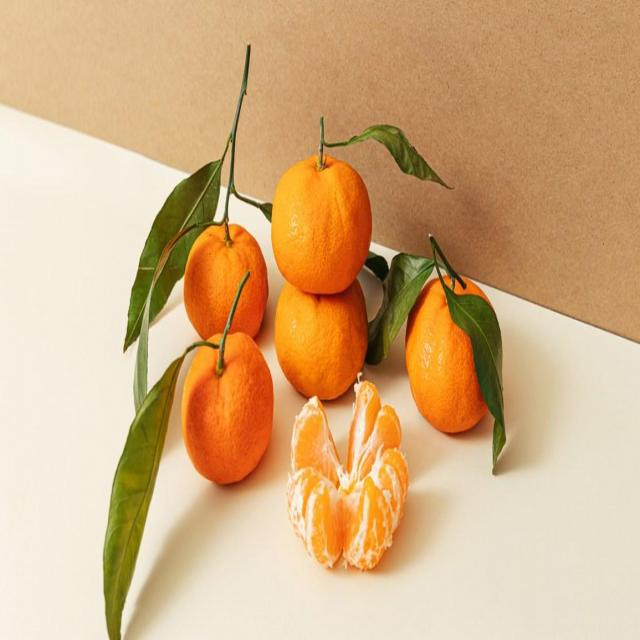10_tangerine: (280, 374, 410, 576), (399, 264, 506, 453), (269, 147, 376, 296), (180, 323, 278, 483), (272, 268, 370, 402), (183, 214, 271, 343)
